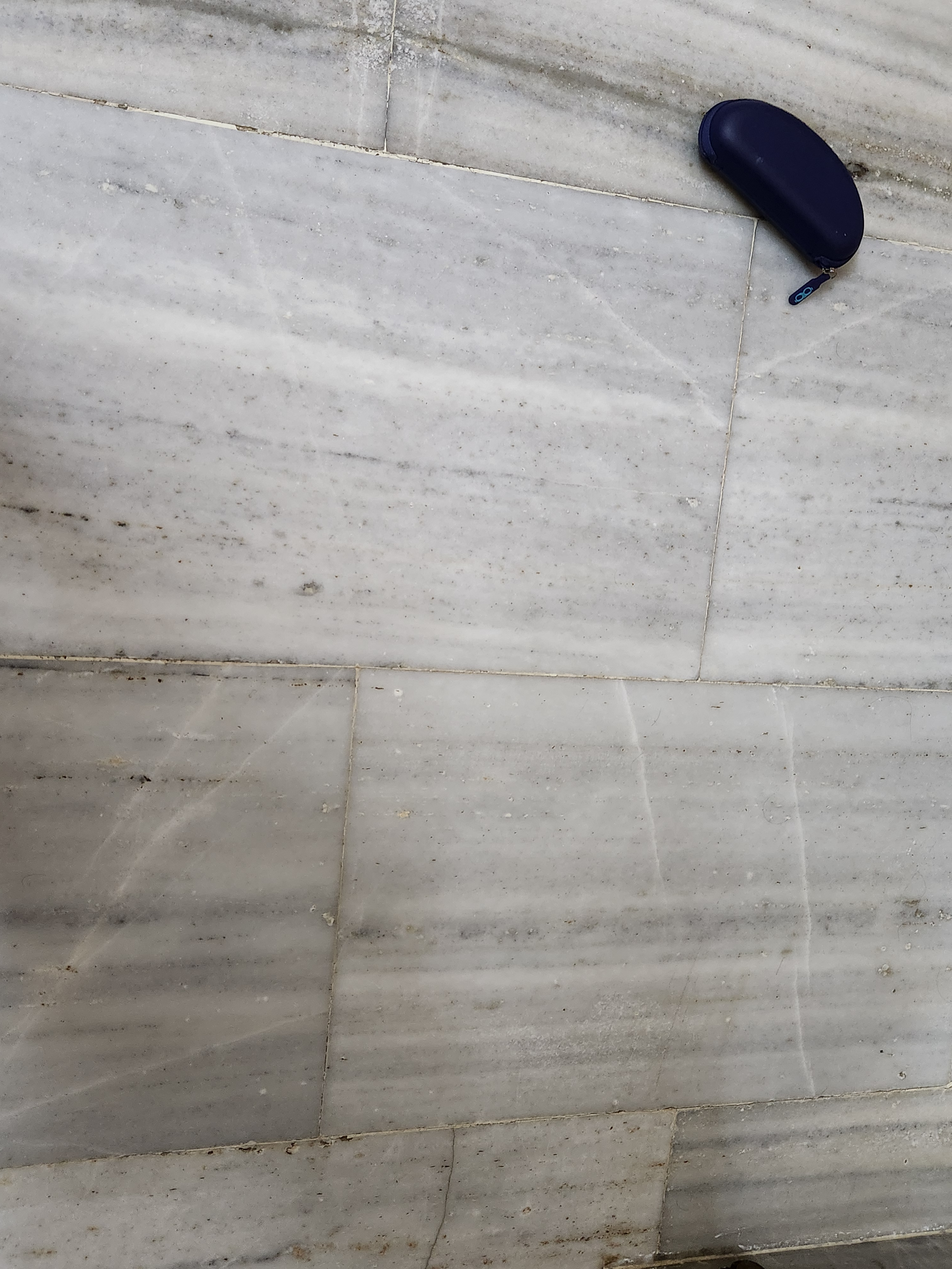case: (692, 93, 872, 318)
